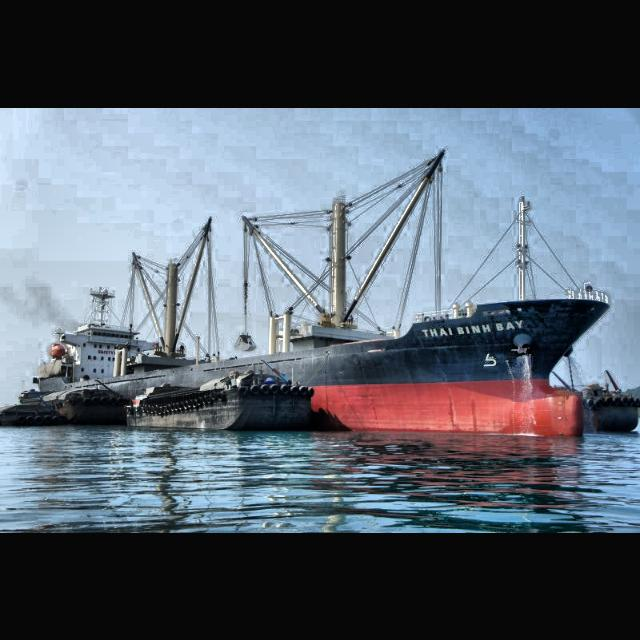bulk_carrier: (31, 150, 611, 440)
